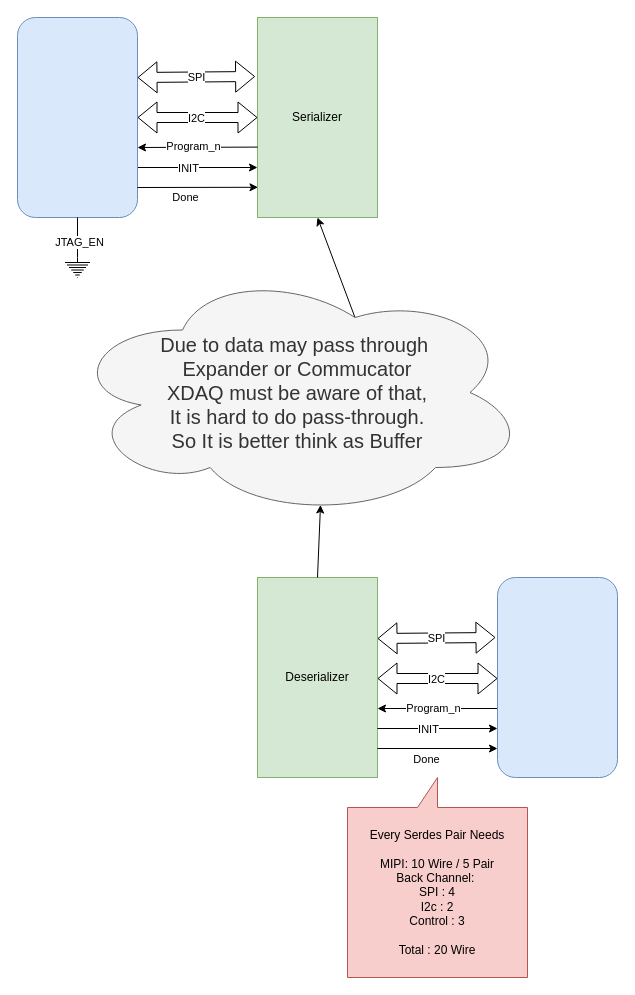
Some shapes in this 635 by 995 pixel diagram are drawn without their labels. The box of each missing label's shape, as (x1, y1, x2, y2) in pixels:
CrossLink-NX: (16, 16, 138, 218)
XDAQ: (496, 576, 618, 778)
